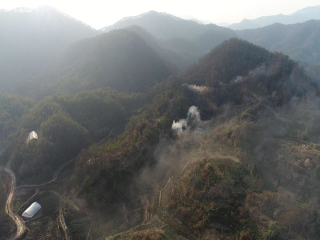smoke: (169, 104, 205, 138), (179, 80, 214, 95)
